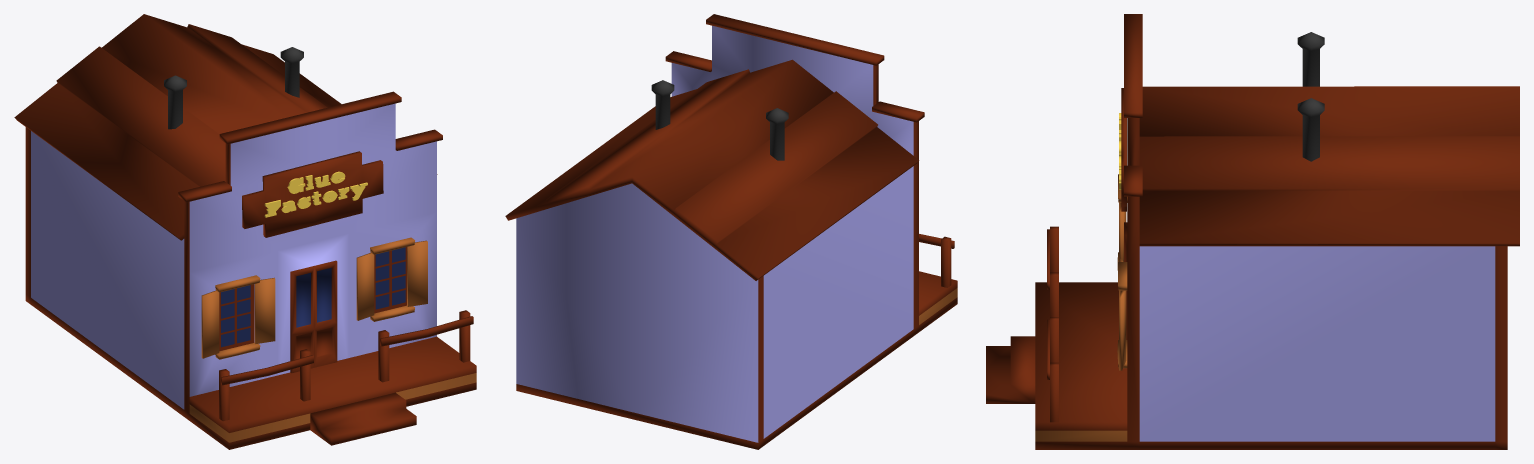
The model's file is Western_GlueFactory.fbx.
3 renders of one model, left to right at view 1: azimuth 30°, elevation 25°; view 2: azimuth 150°, elevation 25°; view 3: azimuth 270°, elevation 25°, orthographic. The views are drawn at different scales.
Visible parts, largest first — view 1: WesternBuilding__Shop_GlueFactory; view 2: WesternBuilding__Shop_GlueFactory; view 3: WesternBuilding__Shop_GlueFactory.
Part boxes in pixels (x1,y1,x2,y2): WesternBuilding__Shop_GlueFactory: (14, 14, 476, 449); WesternBuilding__Shop_GlueFactory: (505, 14, 957, 449); WesternBuilding__Shop_GlueFactory: (986, 14, 1519, 449).
Bounding box in the file's own units: 566 × 570 × 870.
1 material, 1 textured.
